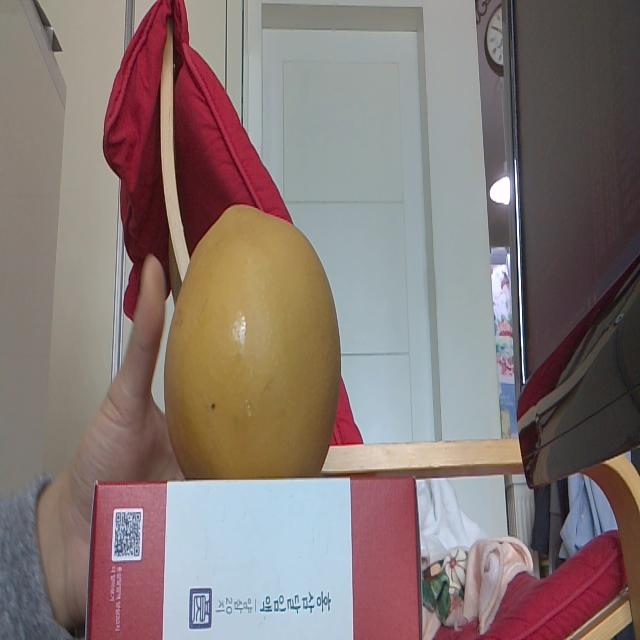pear: (166, 203, 341, 479)
